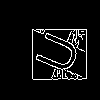U: (25, 25, 82, 77)
